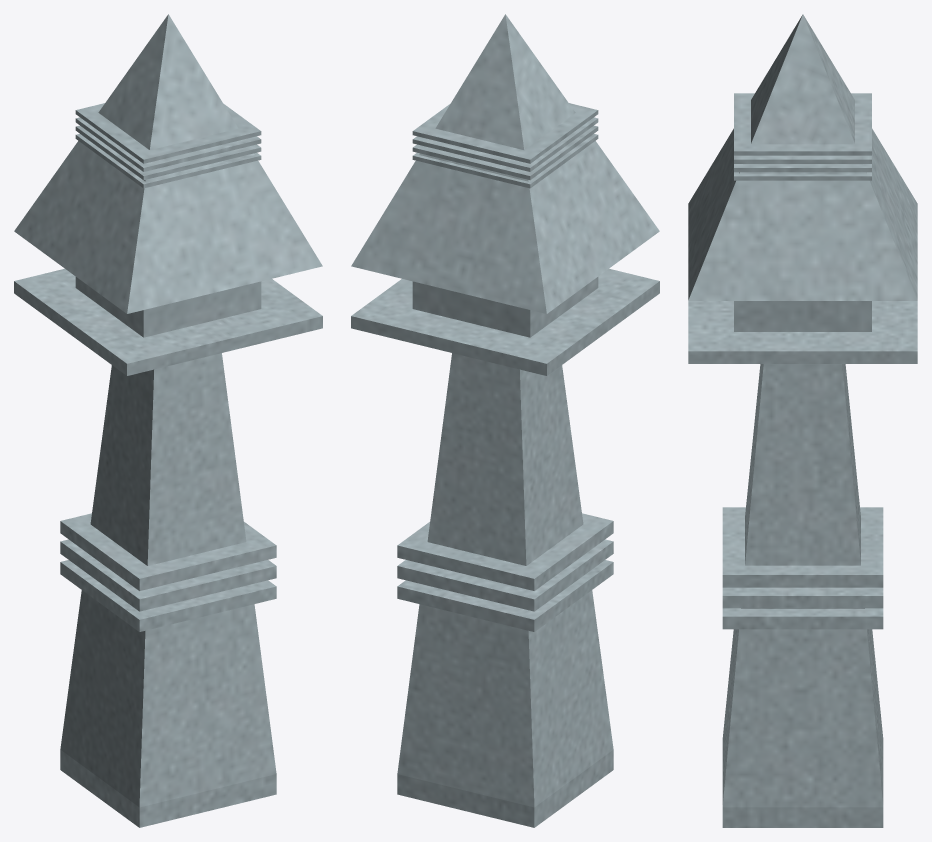
Rendered from kos001.glb.
3 renders of one model, left to right at view 1: azimuth 30°, elevation 25°; view 2: azimuth 150°, elevation 25°; view 3: azimuth 270°, elevation 25°, orthographic.
Parts seen in each view (by area): view 1: colum01[64], Part17[82]; view 2: colum01[64], Part17[82]; view 3: colum01[64], Part17[82].
Boxes of the visible parts, x1,y1,x2,y2 form: colum01[64]: (14,268,322,827); Part17[82]: (14,14,322,337); colum01[64]: (351,268,659,827); Part17[82]: (351,14,659,337); colum01[64]: (688,301,917,827); Part17[82]: (688,14,917,331).
Bounding box in the file's own units: 0.005 × 0.0187 × 0.005.
2 materials, 2 textured.
